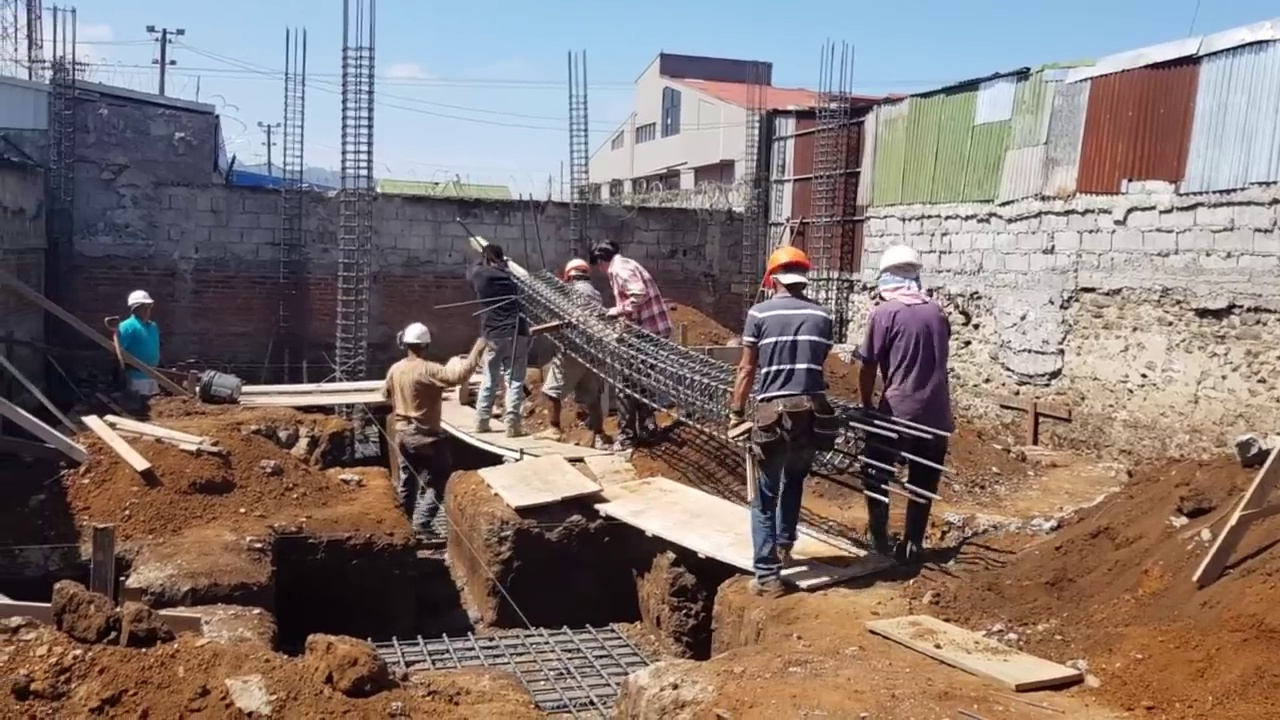helmet: (761, 242, 814, 290), (875, 244, 928, 284), (561, 256, 590, 284), (400, 323, 431, 344), (126, 289, 154, 311)
helmet-off: (583, 240, 619, 277), (480, 240, 505, 270)
helmet-on: (761, 243, 818, 304), (878, 245, 926, 301), (397, 322, 432, 362), (559, 257, 591, 290), (126, 292, 156, 325)
person: (847, 250, 952, 587), (738, 241, 842, 575), (582, 234, 678, 455), (379, 314, 464, 560), (470, 239, 536, 454), (544, 254, 605, 442), (110, 289, 161, 395)
